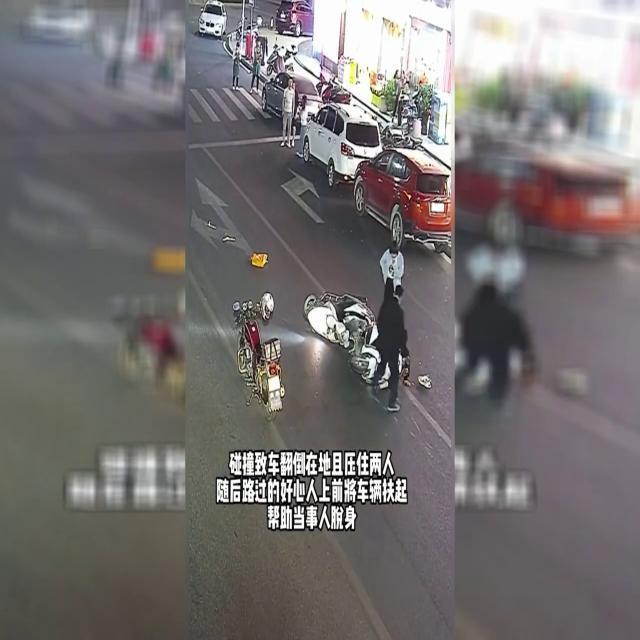multiple_accident: (316, 245, 409, 409)
